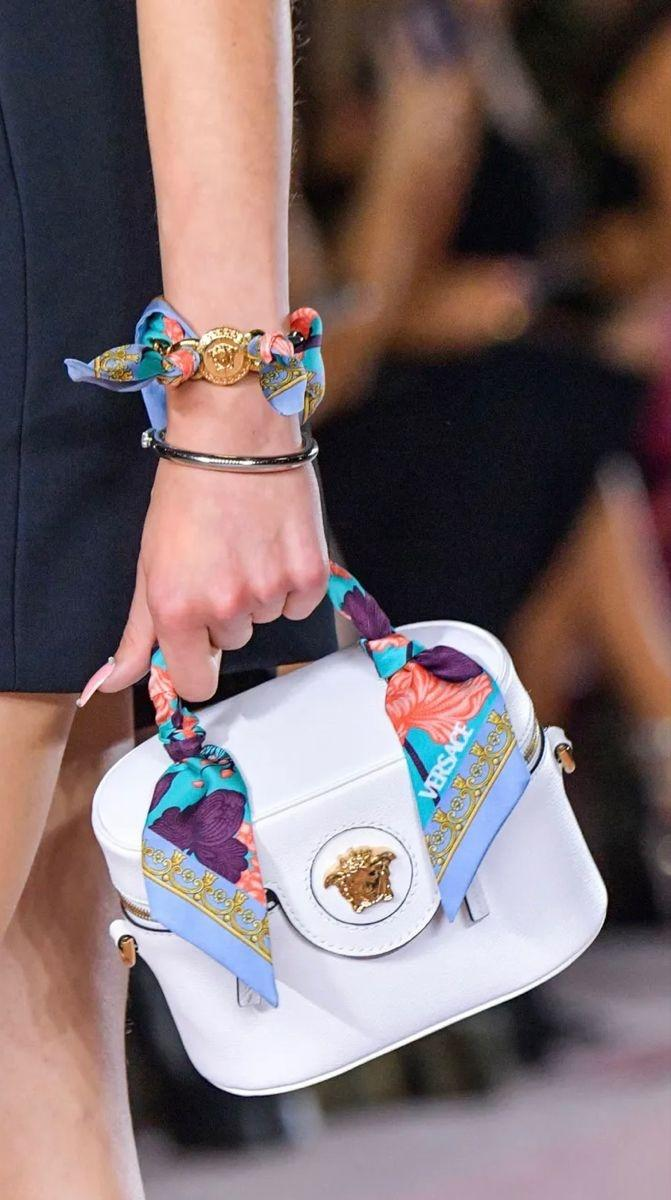VERSACE: (303, 820, 419, 932)
